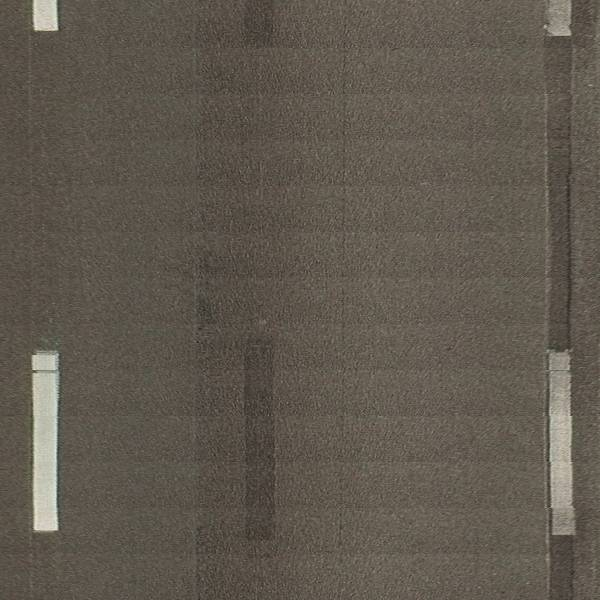road_damage: (337, 44, 352, 259), (562, 163, 577, 350)
